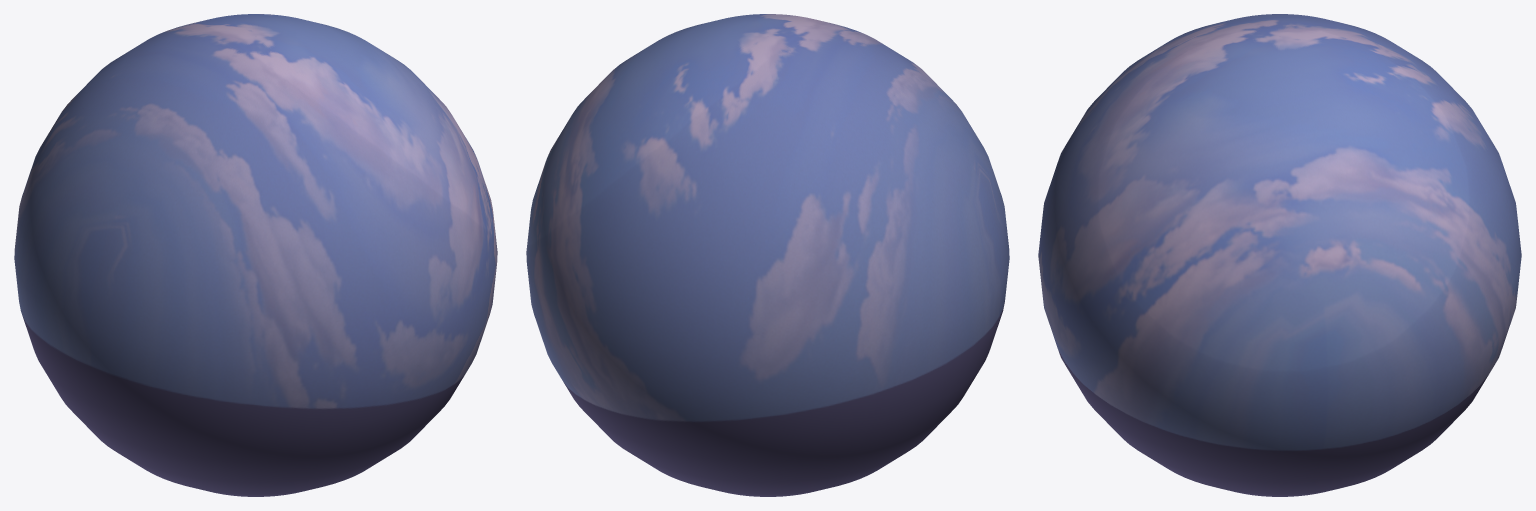
The model's file is skypano.obj.
3 views of the same model, side by side, from view 1: azimuth 30°, elevation 25°; view 2: azimuth 150°, elevation 25°; view 3: azimuth 270°, elevation 25° (orthographic).
Parts seen in each view (by area): view 1: Sphere; view 2: Sphere; view 3: Sphere.
Part boxes in pixels (box(x1,y1,x2,y2)): Sphere: box(14, 14, 497, 496); Sphere: box(526, 14, 1009, 496); Sphere: box(1038, 14, 1521, 496).
Bounding box in the file's own units: 62 × 62 × 62.
Materials: 1 (1 with a texture image).
